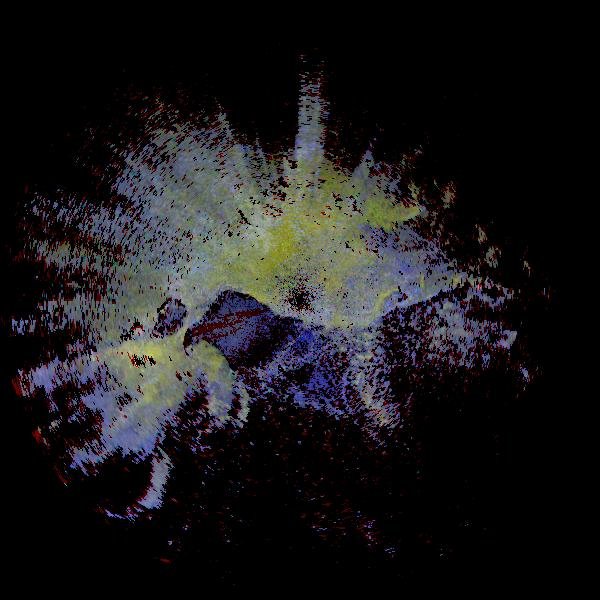roost: (64, 418, 181, 535), (74, 350, 179, 455), (145, 336, 241, 432)
